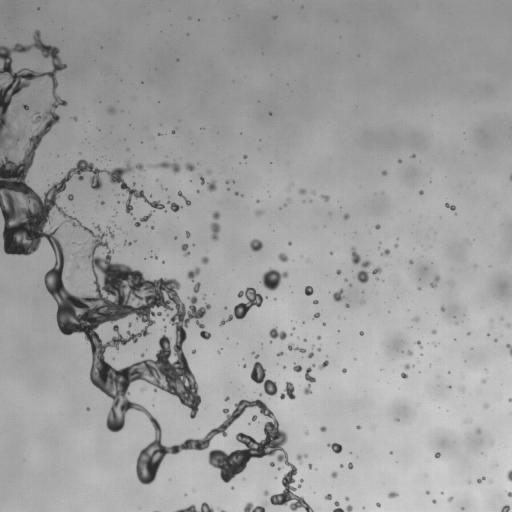droplet: (261, 268, 287, 291), (280, 381, 295, 399), (269, 327, 287, 339), (187, 267, 199, 281), (327, 442, 342, 453), (250, 239, 263, 251), (332, 288, 343, 301), (167, 201, 181, 211), (206, 180, 216, 191), (372, 267, 381, 279), (296, 454, 306, 463), (278, 253, 287, 262), (304, 286, 313, 295), (193, 282, 200, 293), (387, 491, 398, 498), (185, 163, 194, 171), (293, 364, 302, 372), (201, 256, 209, 264), (381, 249, 390, 256), (321, 195, 329, 202), (477, 476, 485, 483), (501, 505, 510, 511), (108, 107, 114, 114), (299, 188, 306, 194), (313, 312, 320, 318), (416, 341, 422, 348), (331, 471, 337, 478), (403, 364, 411, 369), (67, 194, 73, 200), (401, 372, 407, 378), (434, 452, 440, 458), (325, 494, 331, 500), (255, 210, 262, 215), (348, 462, 353, 469), (343, 214, 349, 219), (277, 351, 283, 356), (308, 352, 313, 358), (251, 415, 256, 421), (320, 426, 326, 431), (475, 429, 481, 434), (375, 224, 380, 229), (431, 329, 436, 334), (407, 350, 412, 355), (186, 231, 190, 237), (382, 170, 386, 175), (336, 270, 341, 274), (313, 300, 318, 304), (413, 317, 418, 321), (342, 368, 346, 373), (140, 387, 145, 391), (269, 462, 274, 466), (264, 490, 268, 495), (507, 492, 511, 497), (447, 497, 452, 501), (465, 420, 471, 423), (419, 190, 423, 194), (75, 265, 79, 269), (440, 307, 444, 311), (359, 331, 363, 335), (482, 379, 486, 383), (484, 404, 488, 408), (356, 425, 360, 429), (425, 490, 429, 494), (432, 499, 436, 503), (376, 503, 380, 507), (72, 117, 77, 120), (124, 241, 129, 244), (411, 154, 415, 157), (207, 170, 210, 174), (100, 201, 104, 204), (409, 260, 412, 264), (345, 304, 349, 307), (507, 324, 511, 327), (163, 326, 166, 330), (317, 347, 320, 351), (225, 397, 228, 401), (308, 464, 311, 468), (345, 497, 349, 500), (243, 155, 246, 158), (398, 159, 401, 162), (226, 180, 229, 183), (235, 192, 238, 195), (287, 198, 290, 201), (283, 203, 286, 206), (151, 226, 154, 229), (128, 323, 131, 326), (317, 336, 320, 339), (303, 338, 306, 341), (192, 350, 195, 353), (508, 398, 511, 401), (86, 407, 89, 410), (305, 431, 308, 434), (273, 16, 276, 18), (196, 190, 199, 192), (256, 200, 259, 202), (288, 242, 291, 244), (395, 244, 397, 247), (154, 256, 157, 258), (418, 287, 420, 290), (203, 295, 205, 298), (467, 332, 469, 335), (494, 339, 497, 341), (283, 366, 286, 368), (390, 451, 392, 454), (231, 486, 233, 489), (172, 131, 174, 133), (158, 133, 160, 135), (133, 183, 135, 185), (330, 252, 332, 254), (344, 279, 346, 281), (362, 301, 364, 303), (323, 323, 325, 325), (293, 327, 295, 329), (448, 386, 450, 388), (461, 389, 463, 391), (396, 419, 398, 421)
ligament: (0, 30, 313, 511), (220, 287, 264, 325), (250, 361, 277, 396), (351, 247, 371, 283), (150, 161, 180, 173), (303, 364, 315, 394), (175, 502, 213, 511), (210, 211, 220, 240), (134, 212, 152, 226), (332, 501, 352, 511), (243, 502, 265, 511), (178, 191, 190, 205), (288, 343, 305, 352), (430, 275, 439, 288), (181, 243, 189, 256), (318, 360, 328, 369), (445, 203, 455, 210), (506, 344, 511, 356), (507, 469, 511, 481), (199, 175, 204, 184), (252, 352, 258, 358), (68, 275, 72, 280), (509, 174, 511, 180), (219, 509, 225, 511)
